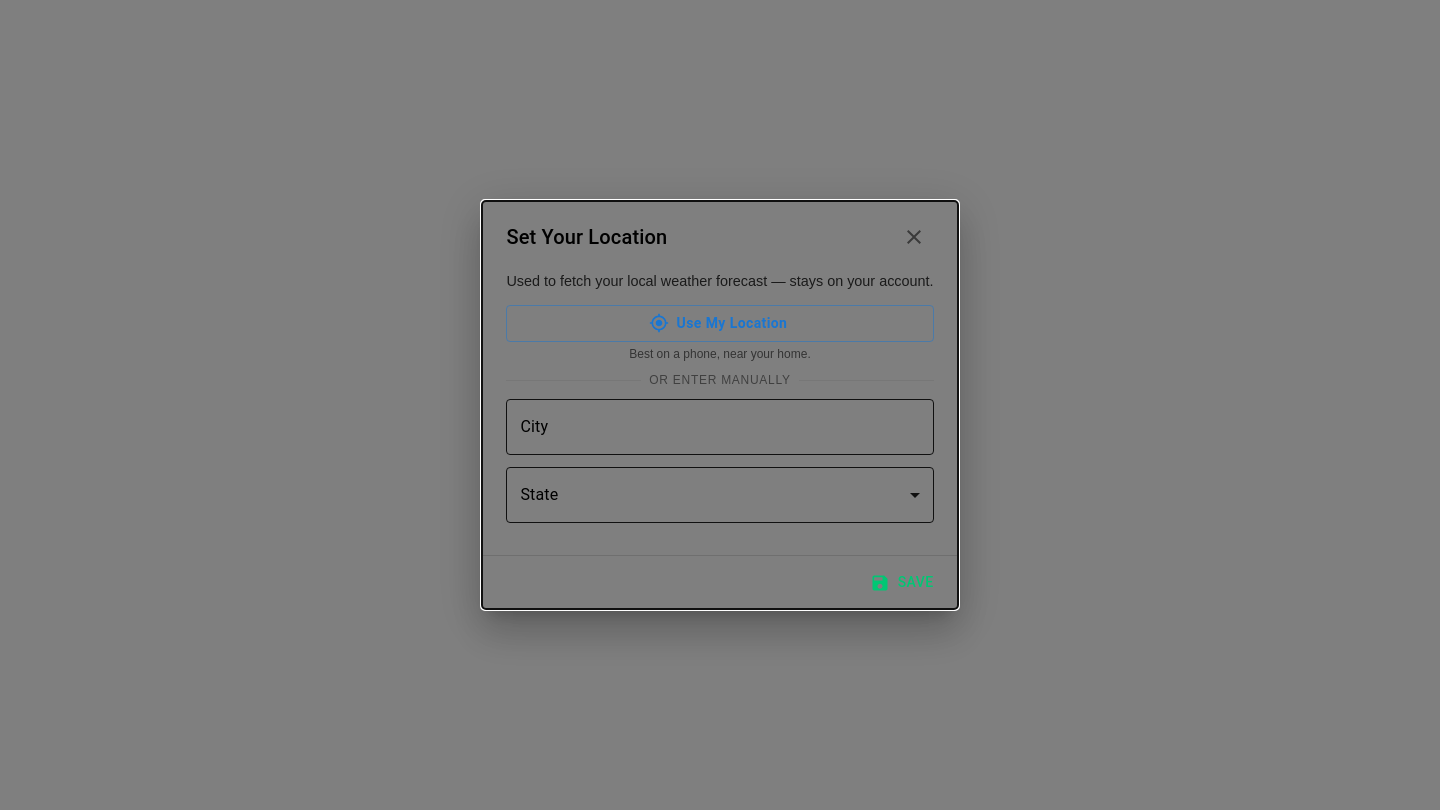
it: CityPrompt › should show an error when reverse geocode returns empty
The image size is (1440, 810).
Step 1. Click the button "Use My Location" → (720, 323), box [506, 305, 934, 342]
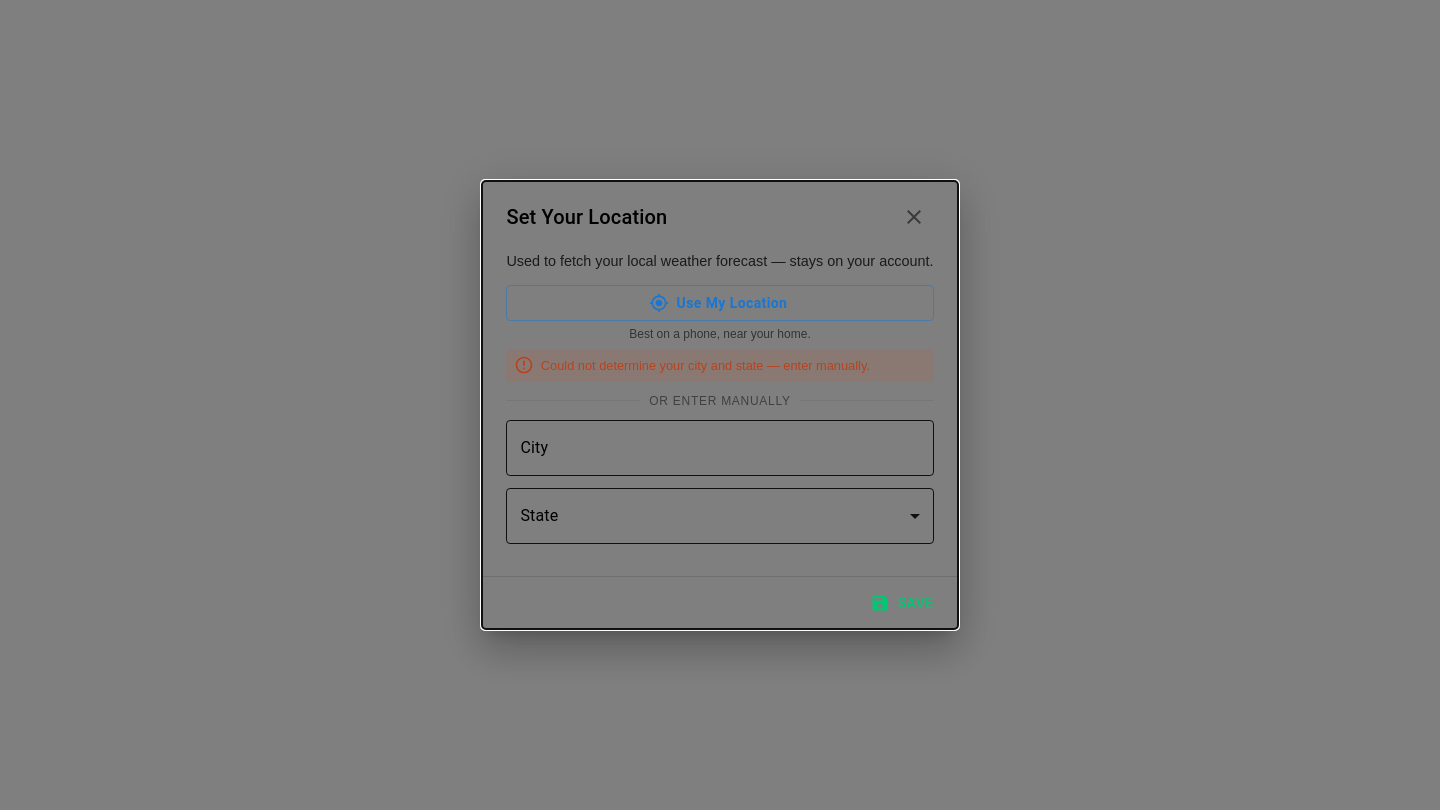
expect the text "Could not determine your city and state — enter manually." is shown: met, box [541, 358, 870, 373]
